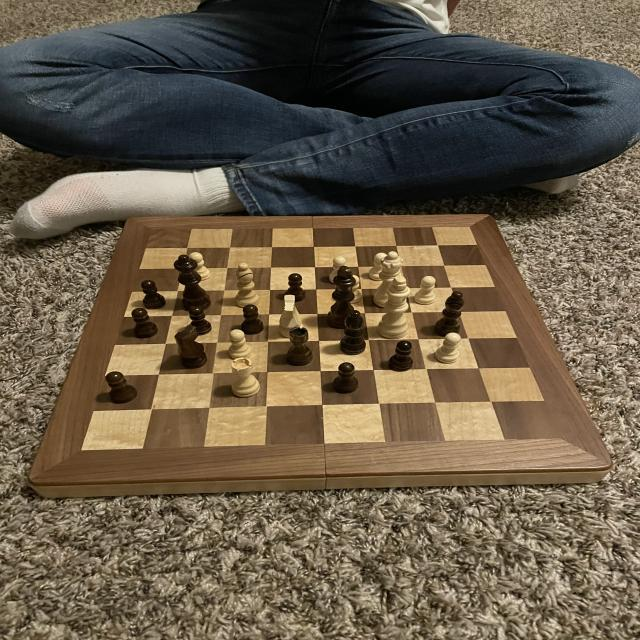bishop: (429, 290, 467, 338), (336, 309, 371, 357)
black-bishop: (324, 265, 359, 332)
black-king: (172, 324, 211, 372)
black-knight: (102, 369, 142, 407), (126, 306, 161, 340), (331, 360, 362, 397), (384, 339, 417, 373), (185, 302, 216, 337), (138, 278, 168, 311), (237, 303, 266, 336), (283, 271, 308, 301)
black-pawn: (171, 253, 216, 313)
black-queen: (281, 325, 318, 367)
black-rook: (230, 260, 266, 309)
white-bishop: (373, 274, 414, 342)
white-king: (275, 292, 305, 340)
white-knight: (432, 331, 464, 366), (225, 329, 255, 363), (185, 249, 212, 282), (412, 274, 438, 307), (366, 250, 389, 283), (326, 256, 353, 284), (342, 274, 364, 304)
white-pawn: (370, 250, 406, 310)
white-queen: (228, 356, 264, 399)
